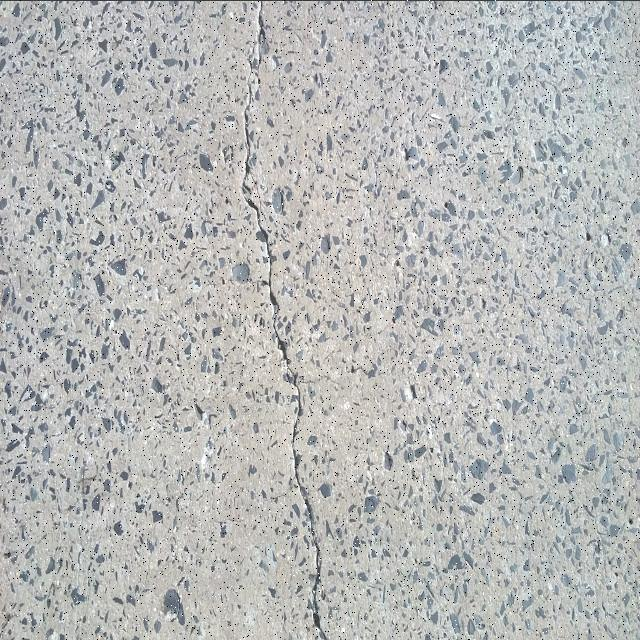Crack: (242, 37, 328, 640), (258, 0, 265, 72)
